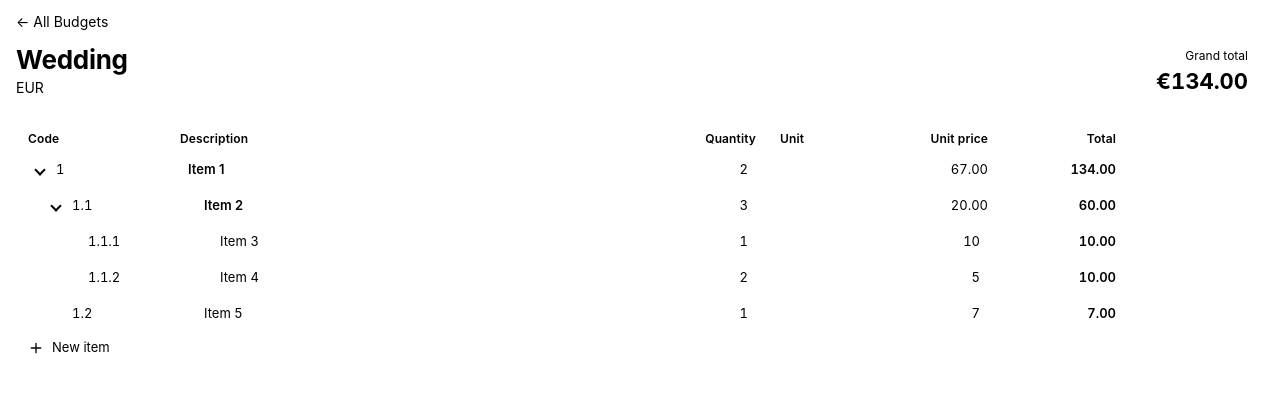
Test case: inline editing › clears an error when the edit is cancelled
Replace the text in the 8th field named "Quantity 1.1.1" with "abc". click: (716, 242)
box: left=676, top=228, right=756, bottom=256
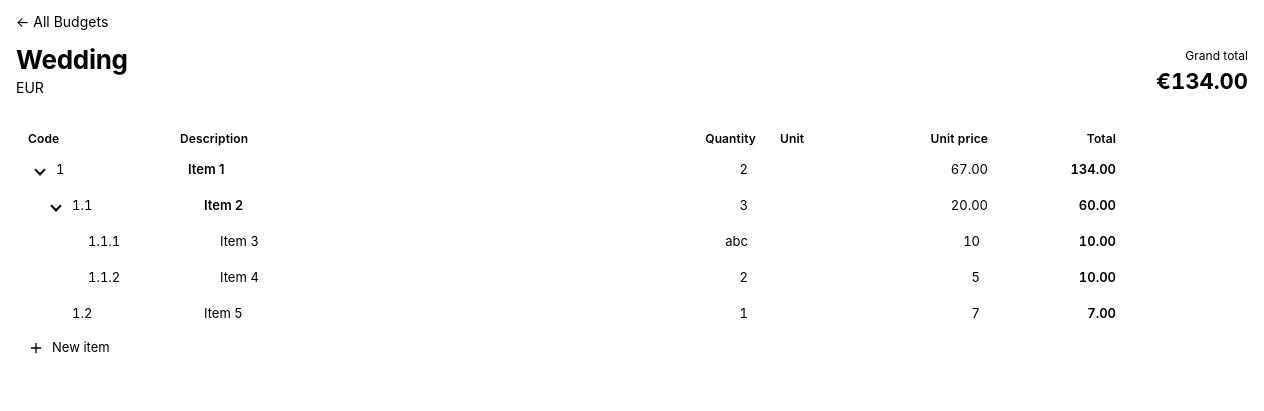
Press Enter
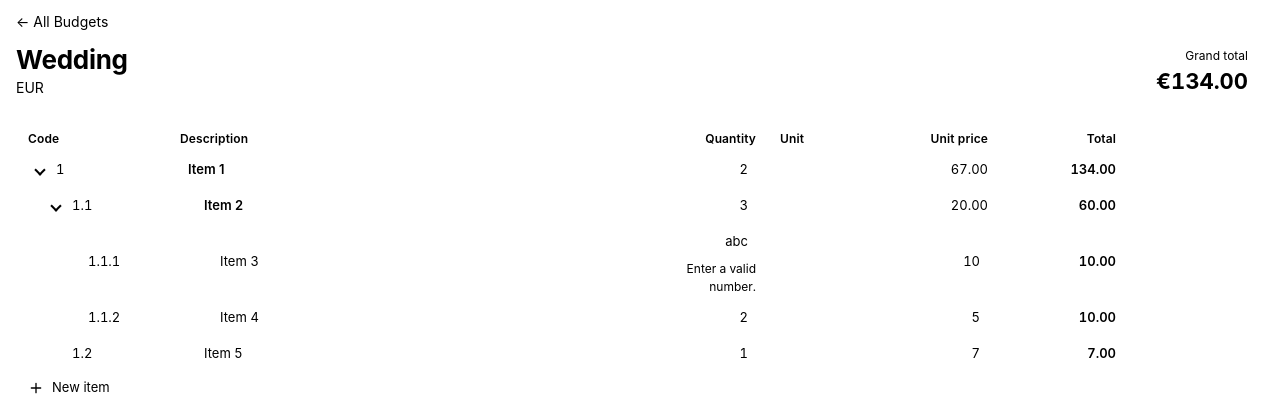
Press Escape
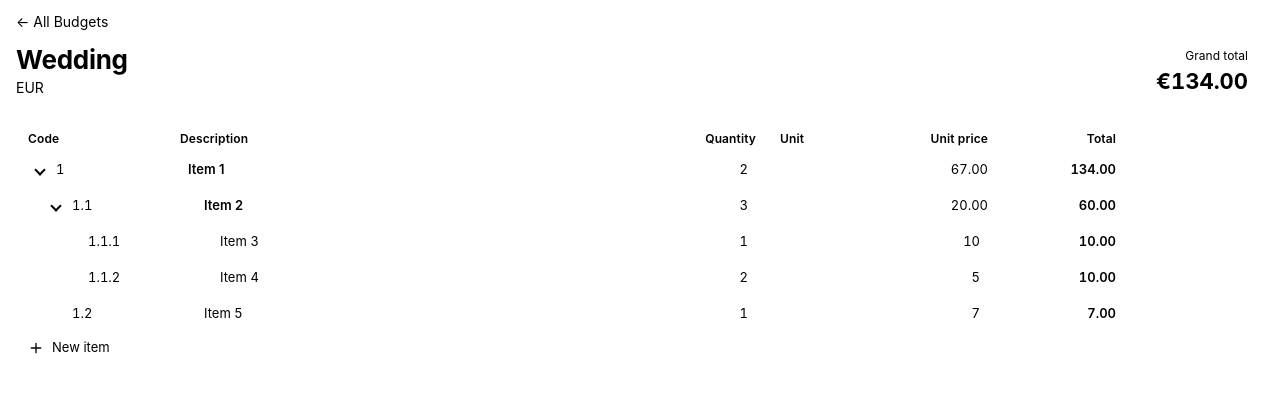
Expected: the 8th field named "Quantity 1.1.1" holds "1", left=676, top=228, right=756, bottom=256
